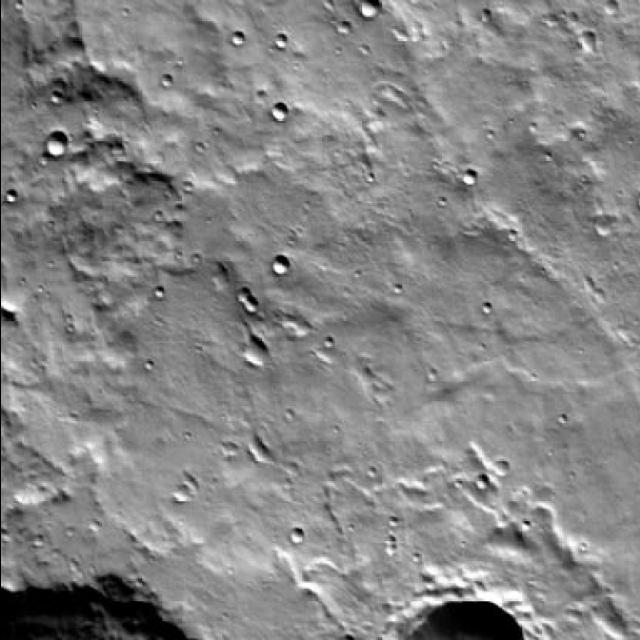crater: (245, 338, 268, 364), (578, 31, 596, 52), (274, 258, 292, 278), (358, 0, 378, 17), (49, 134, 66, 154), (269, 101, 286, 119), (597, 216, 614, 233)
